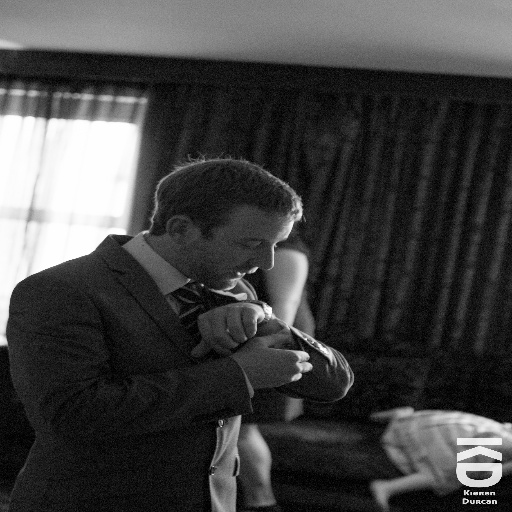hand: (234, 331, 314, 388), (198, 303, 270, 354)
